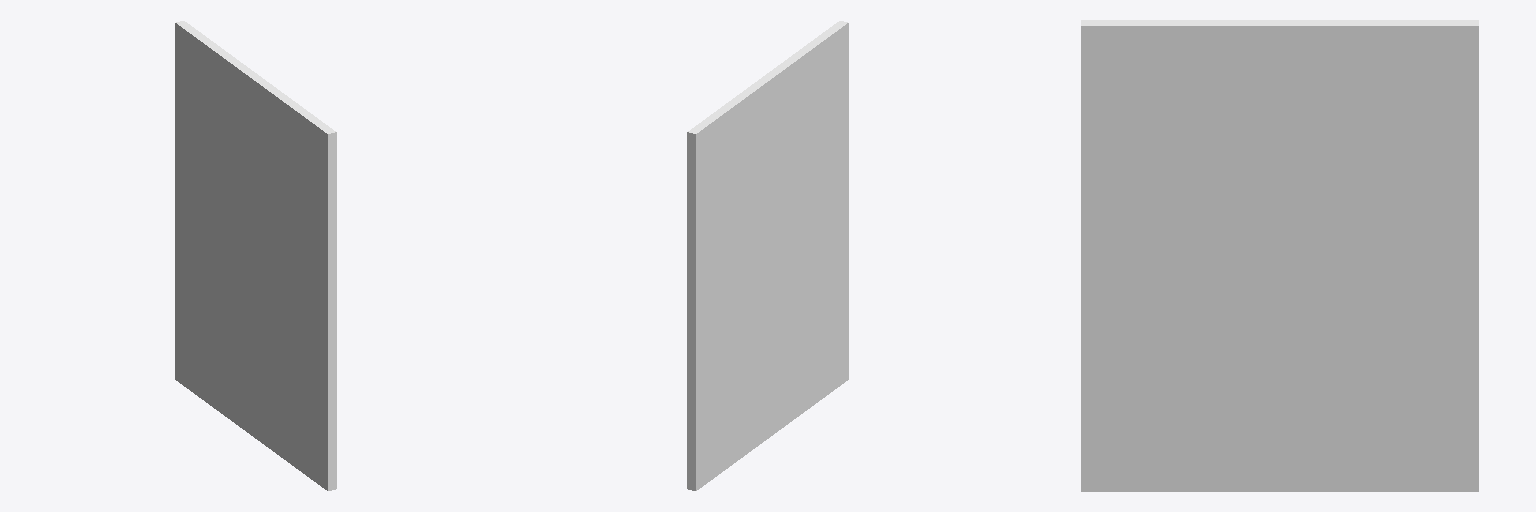
URDF robot description (wall1_9.urdf):
<?xml version="1.0" ?>
<robot name="wall1_9.urdf">
  <link name="baseLink">
    <inertial>
      <origin rpy="0 0 0" xyz="0 0 0"/>
       <mass value="0.0"/>
       <inertia ixx="0" ixy="0" ixz="0" iyy="0" iyz="0" izz="0"/>
    </inertial>
    <visual>
      <origin rpy="0 0 0" xyz="0 0 0"/>
      <geometry>
        <mesh filename="wall1_9.obj" scale="1.0 1.0 1.0"/>
      </geometry>
      <material name="white">
       <color rgba="1 1 1 1"/>
     </material>
    </visual>
    <collision concave="yes">
      <origin rpy="0 0 0" xyz="0 0 0"/>
      <geometry>
        <mesh filename="wall1_9.obj" scale="1.0 1.0 1.0"/>
        <!-- You could also specify the collision (for the wall1_9) with a "box" tag: -->
        <!-- <box size=".06 .06 .06"/> -->
      </geometry>
    </collision>
  </link>
</robot>
        

--- Facts derived from the render (not from the file) ---
Views: 3 orthographic renders of the robot side by side, from view 1: azimuth 30°, elevation 25°; view 2: azimuth 150°, elevation 25°; view 3: azimuth 270°, elevation 25°.
Robot: wall1_9.urdf — 1 links, 0 joints (none); root link baseLink; default pose: every joint at zero.
Links seen in each view (by area): view 1: baseLink; view 2: baseLink; view 3: baseLink.
Boxes of the visible links, bbox=[...] form: baseLink: bbox=[175, 21, 336, 490]; baseLink: bbox=[687, 21, 848, 490]; baseLink: bbox=[1081, 20, 1478, 491].
Bounding box of the posed robot: 0.091 × 2.75 × 3.55 m (x, y, z).
1 mesh visuals loaded from 1 distinct referenced files (1 OBJ).
